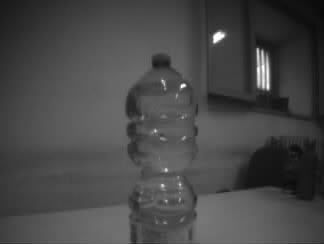Bottle: (124, 52, 198, 244)
